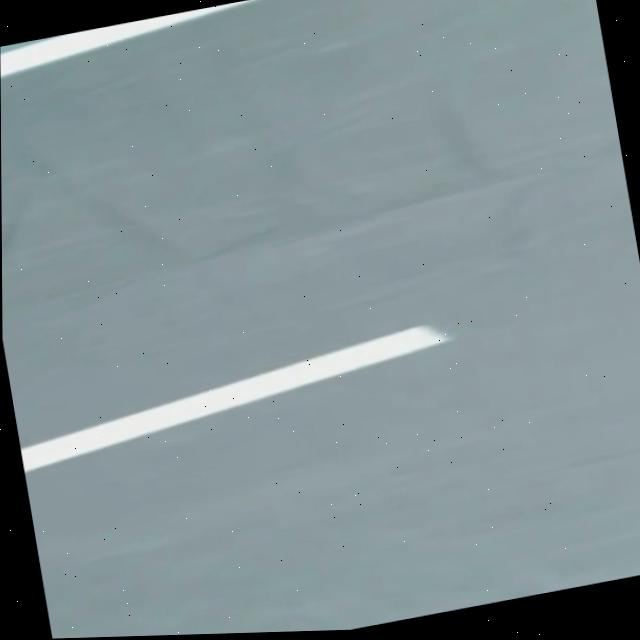center: (20, 326, 451, 471)
left: (0, 0, 256, 77)
